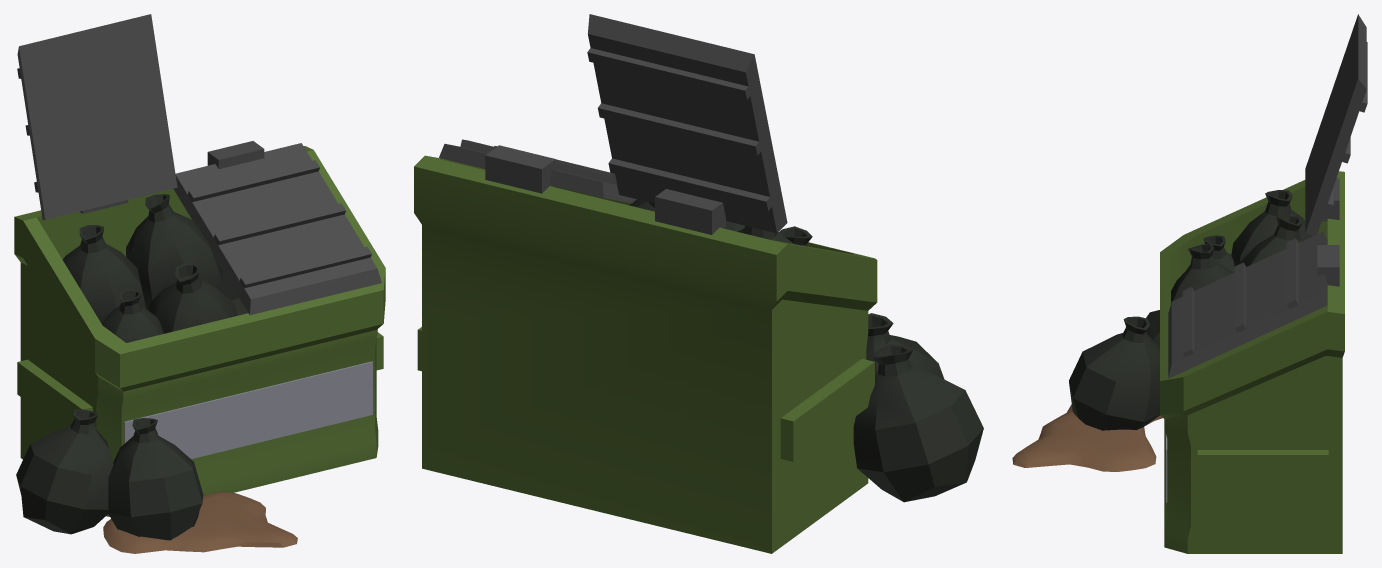
The model's file is quaternius-toon-shooter-game-trashcontainer-open.glb.
3 renders of one model, left to right at view 1: azimuth 30°, elevation 25°; view 2: azimuth 150°, elevation 25°; view 3: azimuth 270°, elevation 25°, orthographic. The views are drawn at different scales.
Visible parts, largest first — view 1: TrashContainer_Open; view 2: TrashContainer_Open; view 3: TrashContainer_Open.
Part boxes in pixels (left/top/right/bottom): TrashContainer_Open: left=14, top=14, right=385, bottom=553; TrashContainer_Open: left=414, top=14, right=983, bottom=553; TrashContainer_Open: left=1012, top=14, right=1367, bottom=553.
Bounding box in the file's own units: 3.16 × 3.34 × 2.63.
Materials: 1 (1 with a texture image).
